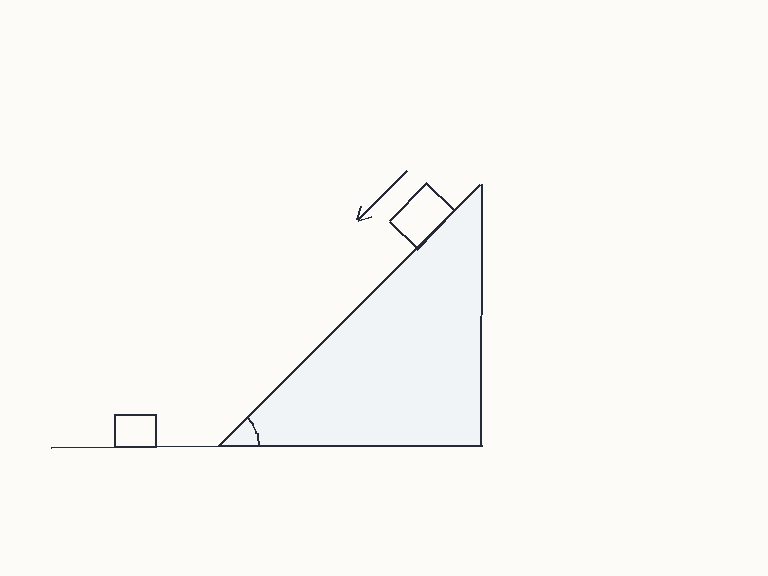block: (387, 181, 456, 250), (112, 413, 158, 448)
ramp: (217, 182, 483, 448)
